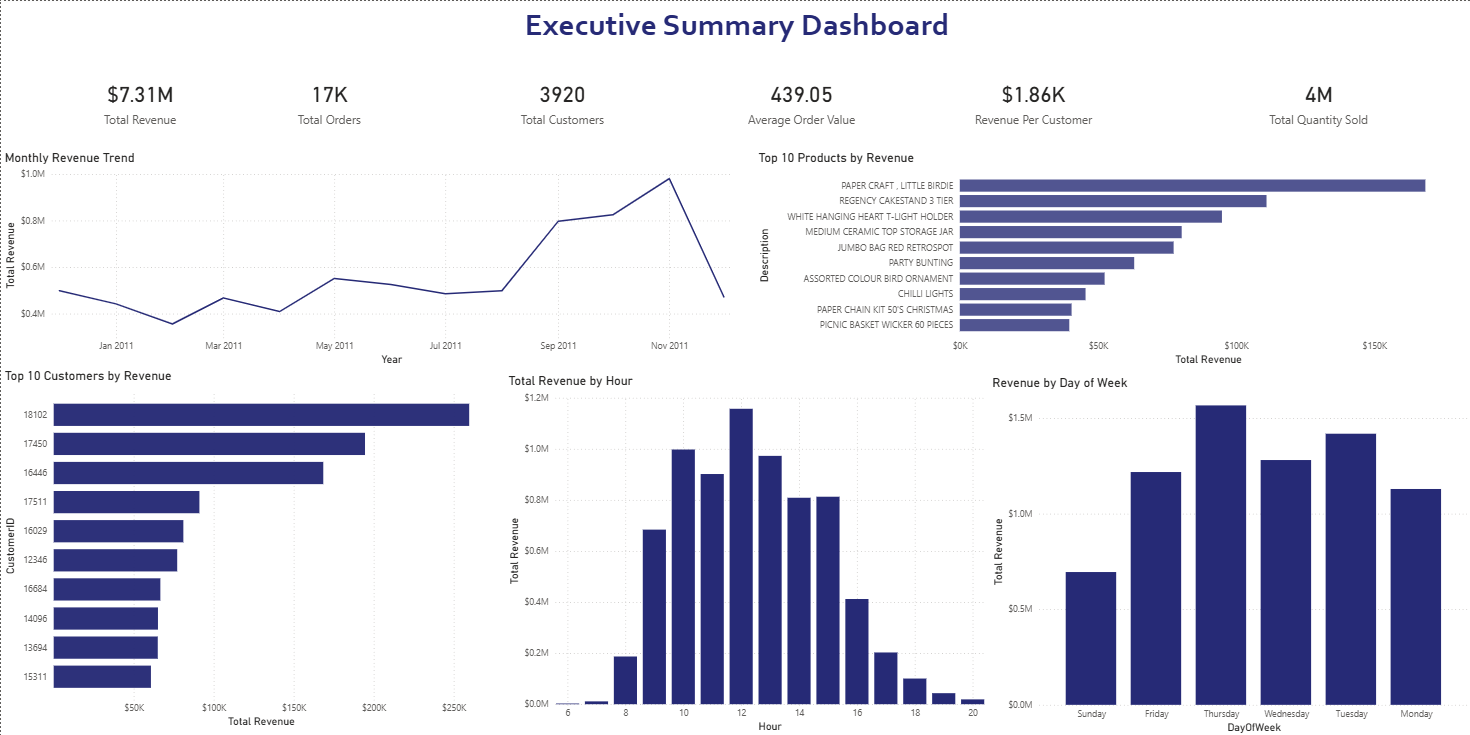

Layout of this report page (visuals, bound fields, positions):
{"tool":"powerbi","page":{"name":"Executive Summary Dashboard","canvas":[2000,1000],"ordinal":0},"visuals":[{"type":"card","fields":{"Values":["cleaned_data.Total Revenue"]},"box":[50,85,280,103.3],"z":0},{"type":"card","fields":{"Values":["cleaned_data.Total Orders"]},"box":[330,85,233.3,103.3],"z":1000},{"type":"card","fields":{"Values":["cleaned_data.Total Customers"]},"box":[641.7,85,241.7,103.3],"z":2000},{"type":"card","fields":{"Values":["cleaned_data.Average Order Value"]},"box":[961.7,85,253.3,103.3],"z":3000},{"type":"card","fields":{"Values":["cleaned_data.Revenue Per Customer"]},"box":[1275,85,255,103.3],"z":4000},{"type":"card","fields":{"Values":["cleaned_data.Total Quantity Sold"]},"box":[1671.7,85,238.3,103.3],"z":5000},{"type":"lineChart","title":"Monthly Revenue Trend","fields":{"Y":["cleaned_data.Total Revenue"],"Category":["DateTable.Date.Variation.Date Hierarchy.Year","DateTable.Date.Variation.Date Hierarchy.Month"]},"box":[0,201.7,1013.3,298.3],"z":6000},{"type":"clusteredBarChart","title":"Top 10 Products by Revenue","fields":{"Category":["cleaned_data.Description"],"Y":["cleaned_data.Total Revenue"]},"box":[1023.3,201.7,976.7,298.3],"z":7000},{"type":"clusteredBarChart","title":"Top 10 Customers by Revenue","fields":{"Category":["cleaned_data.CustomerID"],"Y":["cleaned_data.Total Revenue"]},"box":[0,500,658.3,493.3],"z":8000},{"type":"columnChart","fields":{"Category":["cleaned_data.Hour"],"Y":["cleaned_data.Total Revenue"]},"box":[685,506.7,656.7,493.3],"z":9000},{"type":"clusteredColumnChart","title":"Revenue by Day of Week","fields":{"Category":["cleaned_data.DayOfWeek"],"Y":["cleaned_data.Total Revenue"]},"box":[1342.5,507.5,657.5,492.5],"z":10000},{"type":"textbox","box":[0,0,2000,96.7],"z":11000}]}

Visuals, with their boxes in screenshot pixels (x1, y1, x2, y2), scaled from the page's 2000x1000 canvas onto the 1470x735 screenshot:
card - cleaned_data.Total Revenue: {"x1": 37, "y1": 62, "x2": 243, "y2": 138}
card - cleaned_data.Total Orders: {"x1": 243, "y1": 62, "x2": 414, "y2": 138}
card - cleaned_data.Total Customers: {"x1": 472, "y1": 62, "x2": 649, "y2": 138}
card - cleaned_data.Average Order Value: {"x1": 707, "y1": 62, "x2": 893, "y2": 138}
card - cleaned_data.Revenue Per Customer: {"x1": 937, "y1": 62, "x2": 1125, "y2": 138}
card - cleaned_data.Total Quantity Sold: {"x1": 1229, "y1": 62, "x2": 1404, "y2": 138}
"Monthly Revenue Trend" lineChart: {"x1": 0, "y1": 148, "x2": 745, "y2": 368}
"Top 10 Products by Revenue" clusteredBarChart: {"x1": 752, "y1": 148, "x2": 1469, "y2": 368}
"Top 10 Customers by Revenue" clusteredBarChart: {"x1": 0, "y1": 368, "x2": 484, "y2": 730}
columnChart - cleaned_data.Hour x cleaned_data.Total Revenue: {"x1": 503, "y1": 372, "x2": 986, "y2": 734}
"Revenue by Day of Week" clusteredColumnChart: {"x1": 987, "y1": 373, "x2": 1469, "y2": 734}
textbox: {"x1": 0, "y1": 0, "x2": 1469, "y2": 71}
